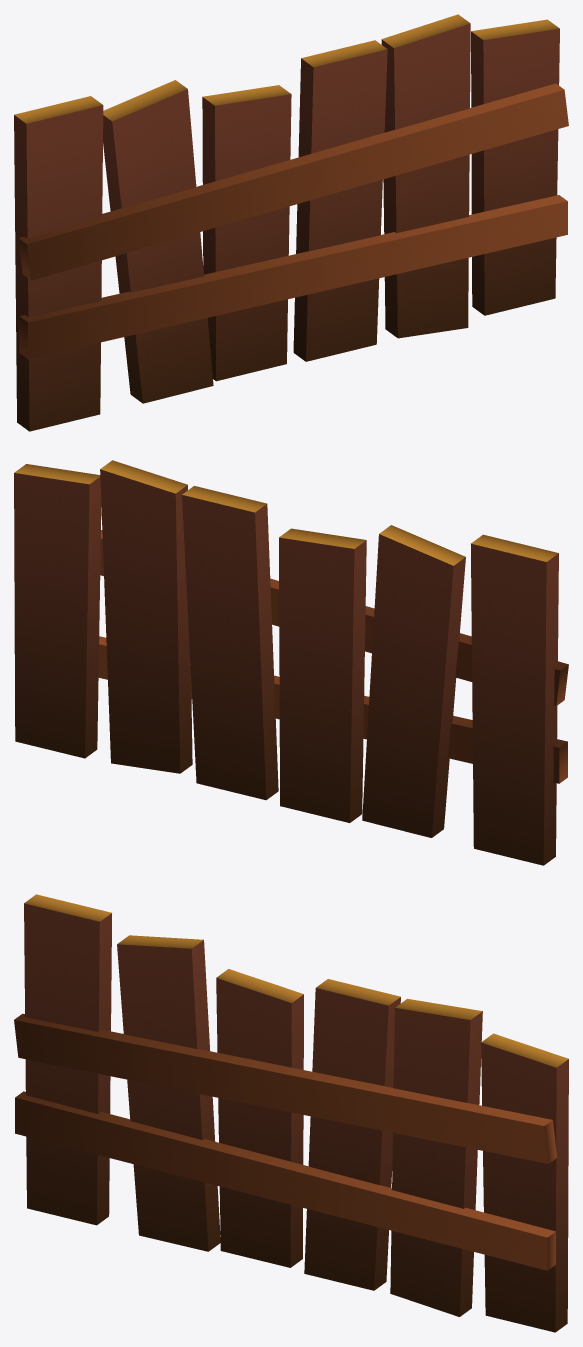
File: fence_002.fbx
3 views of the same model, one above another, from view 1: azimuth 30°, elevation 25°; view 2: azimuth 150°, elevation 25°; view 3: azimuth 330°, elevation 25° (orthographic).
Visible parts, largest first — view 1: fence.002; view 2: fence.002; view 3: fence.002.
Boxes of the visible parts, x1,y1,x2,y2 form: fence.002: (14, 14, 568, 431); fence.002: (14, 460, 568, 865); fence.002: (14, 894, 568, 1332).
Size of the model in its own units: 317 by 174 by 22.91.
